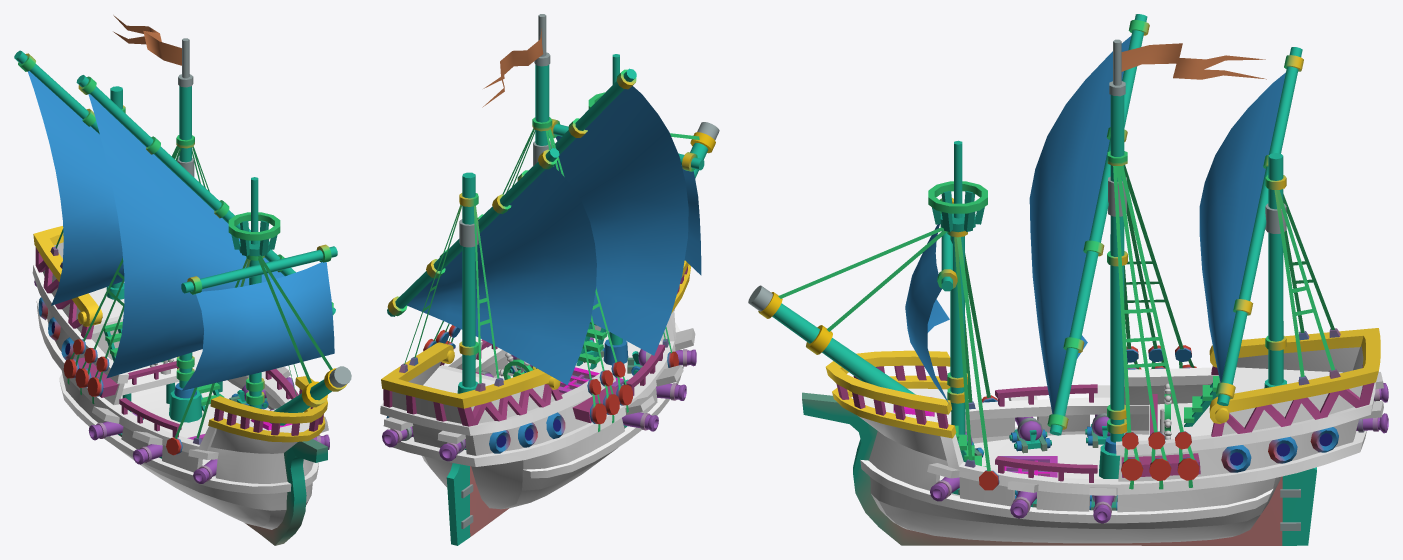
File: Caravel.fbx
3 renders of one model, left to right at view 1: azimuth 30°, elevation 25°; view 2: azimuth 150°, elevation 25°; view 3: azimuth 270°, elevation 25°, orthographic. The views are drawn at different scales.
Visible parts, largest first — view 1: Caravel, Sails, Upgrade_01, Box7900, Upgrade_02, Flag; view 2: Sails, Caravel, Box7900, Rudder, Upgrade_01, Flag, Upgrade_02, Props; view 3: Caravel, Sails, Upgrade_01, Box7900, Flag, Rudder, Upgrade_02.
Part boxes in pixels (x1=…): Caravel: x1=14, y1=38, x2=351, y2=545; Sails: x1=28, y1=71, x2=334, y2=390; Upgrade_01: x1=59, y1=373, x2=318, y2=493; Box7900: x1=34, y1=280, x2=329, y2=483; Upgrade_02: x1=119, y1=369, x2=298, y2=437; Flag: x1=113, y1=15, x2=181, y2=65; Sails: x1=406, y1=86, x2=701, y2=385; Caravel: x1=380, y1=14, x2=719, y2=536; Box7900: x1=382, y1=337, x2=696, y2=461; Rudder: x1=446, y1=463, x2=473, y2=545; Upgrade_01: x1=508, y1=322, x2=684, y2=478; Flag: x1=482, y1=28, x2=543, y2=107; Upgrade_02: x1=476, y1=339, x2=664, y2=395; Props: x1=496, y1=352, x2=532, y2=379; Caravel: x1=748, y1=14, x2=1383, y2=545; Sails: x1=905, y1=36, x2=1285, y2=414; Upgrade_01: x1=860, y1=424, x2=1273, y2=523; Box7900: x1=930, y1=383, x2=1388, y2=523; Flag: x1=1121, y1=43, x2=1266, y2=79; Rudder: x1=1280, y1=467, x2=1316, y2=545; Upgrade_02: x1=995, y1=384, x2=1097, y2=482.
Bounding box in the file's own units: 701 × 1311 × 1514.
